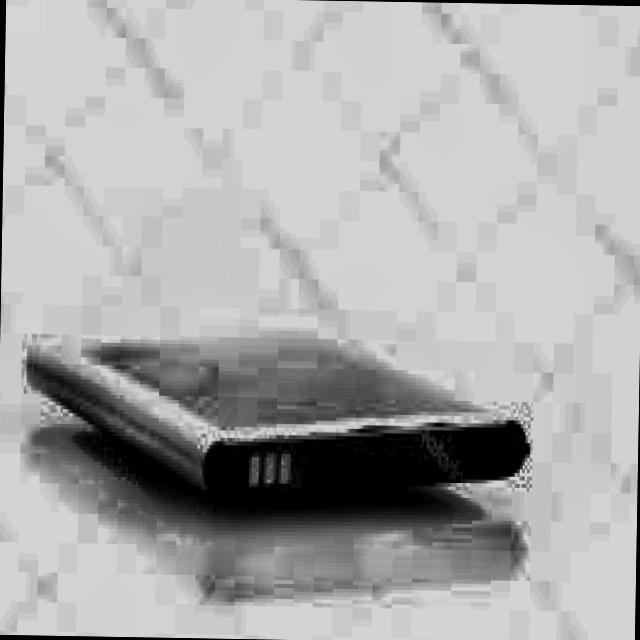Battery: (27, 337, 524, 487)
